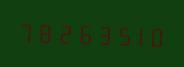eight: (35, 18, 52, 45)
five: (107, 20, 124, 48)
one: (125, 21, 142, 48)
seven: (17, 17, 34, 44)
six: (71, 19, 88, 46)
three: (89, 19, 106, 47)
two: (53, 18, 70, 46)
zero: (143, 21, 160, 49)
